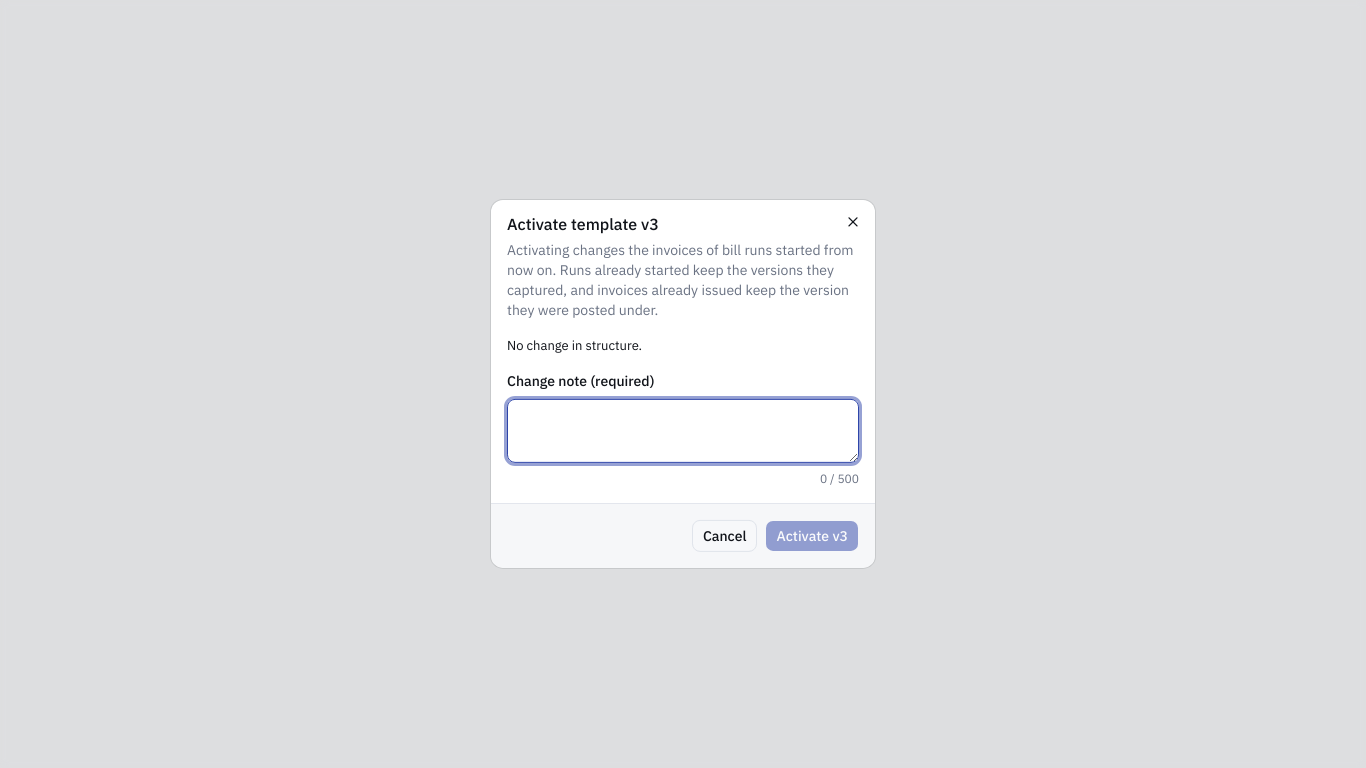
Scenario: ActivateVersionDialog › renders a server refusal inline in Danger and stays open
In the text box labelled "Change note (required)": point(683, 431) top-left (507, 399), bottom-right (859, 463), type "note"
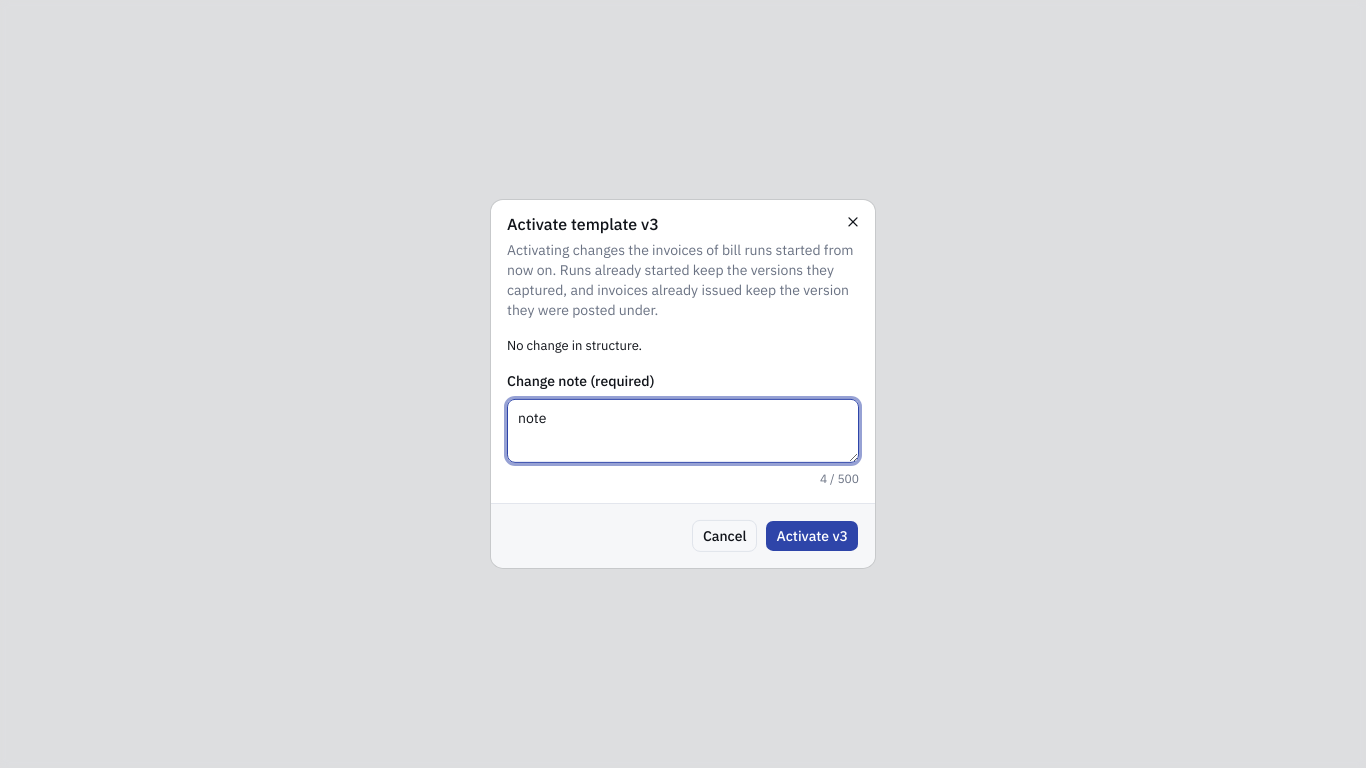
Click the button "Activate v3": point(812, 536) top-left (765, 520), bottom-right (859, 552)
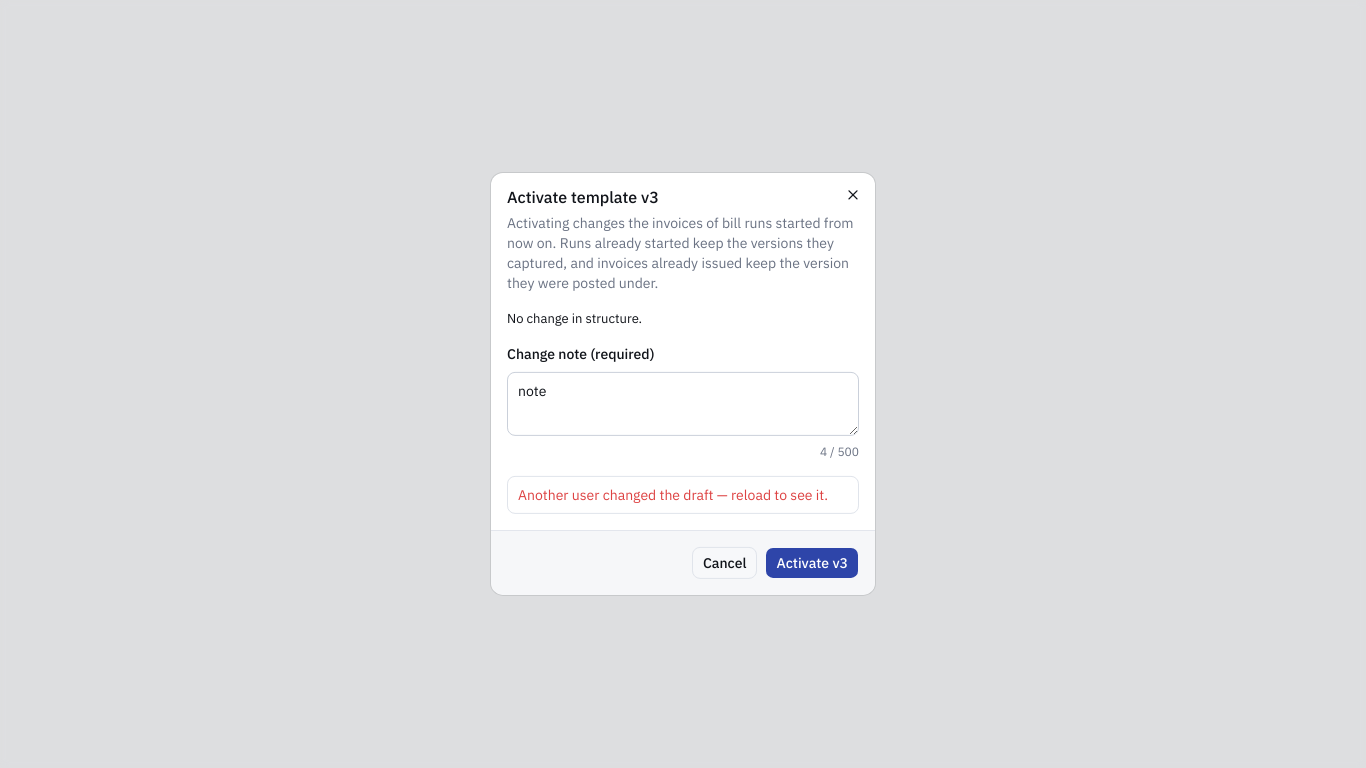
Expected: the message shows "Another user changed the draft", top-left (518, 486), bottom-right (828, 504)
